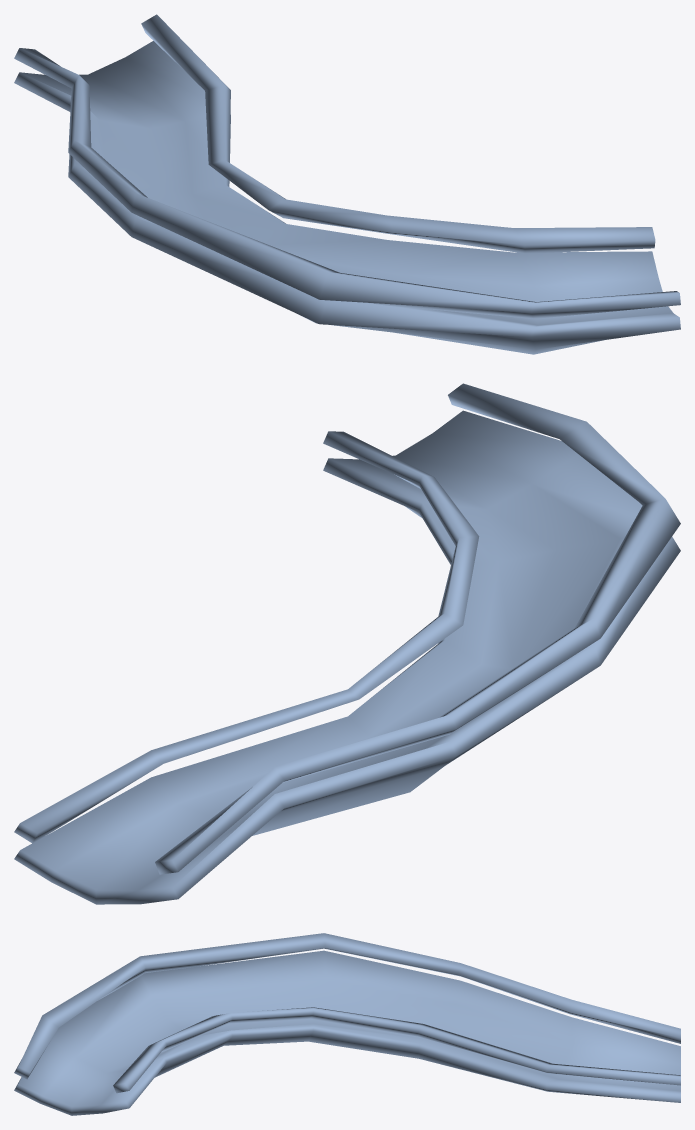
File: junRoadShort2p5_70.fbx
The picture shows the model from 3 angles, top to bottom: view 1: azimuth 30°, elevation 25°; view 2: azimuth 150°, elevation 25°; view 3: azimuth 270°, elevation 25°; orthographic projection. The views are drawn at different scales.
Parts seen in each view (by area): view 1: junRoadShort2p5_70_LOD0, junRoadShort2p5_70_edge_LOD0; view 2: junRoadShort2p5_70_LOD0, junRoadShort2p5_70_edge_LOD0; view 3: junRoadShort2p5_70_LOD0, junRoadShort2p5_70_edge_LOD0.
Boxes of the visible parts, x1,y1,x2,y2 form: junRoadShort2p5_70_LOD0: (14, 41, 680, 354); junRoadShort2p5_70_edge_LOD0: (14, 14, 680, 318); junRoadShort2p5_70_LOD0: (14, 410, 680, 904); junRoadShort2p5_70_edge_LOD0: (14, 383, 680, 874); junRoadShort2p5_70_LOD0: (14, 950, 680, 1115); junRoadShort2p5_70_edge_LOD0: (14, 933, 680, 1093).
Size of the model in its own units: 825 by 257 by 1723.
